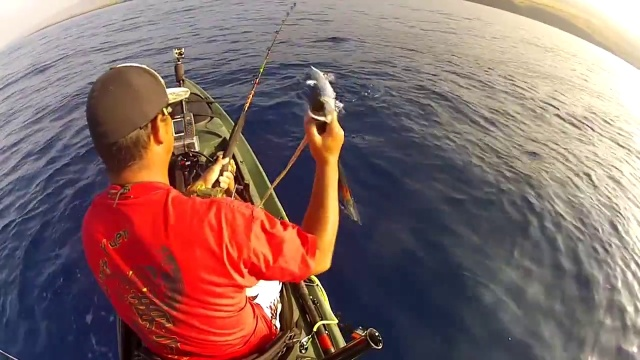person: (68, 61, 369, 359)
